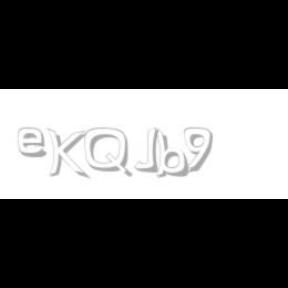9: (184, 128, 212, 172)
J: (134, 128, 158, 172)
K: (46, 128, 86, 180)
Q: (84, 128, 130, 178)
b: (154, 128, 192, 178)
e: (18, 128, 50, 158)
